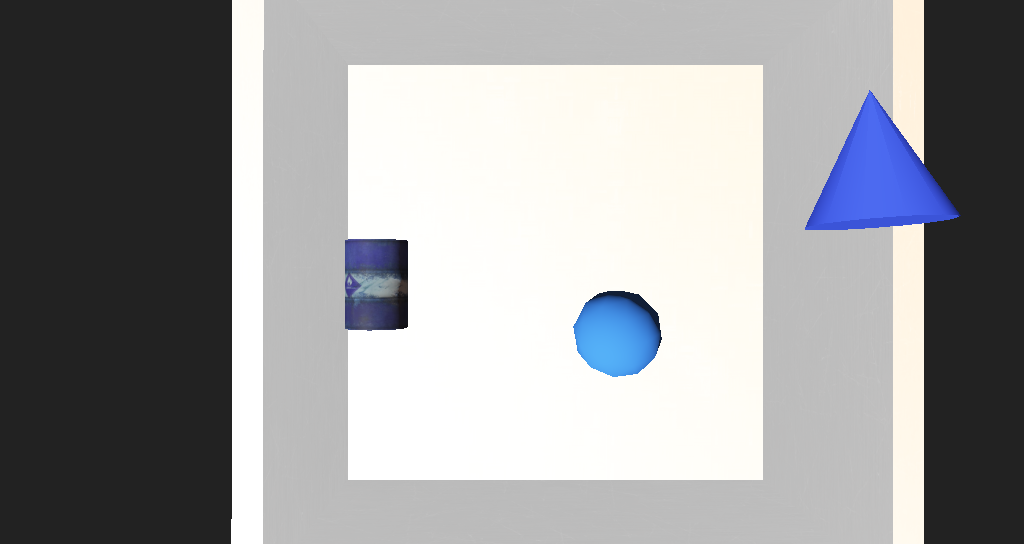cone: (350, 255, 404, 298)
cylinder: (620, 179, 768, 251)
sphere: (522, 279, 583, 322)
